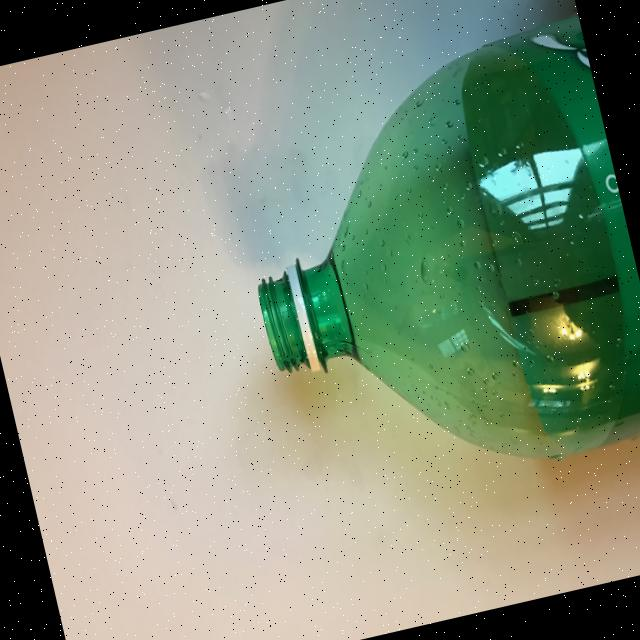plastic: (212, 13, 640, 518)
